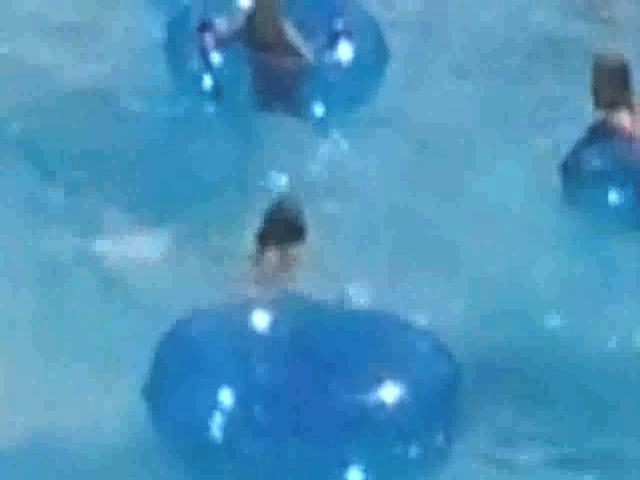drowning: (115, 165, 351, 302)
